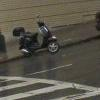Motorcycle: (9, 21, 73, 60)
